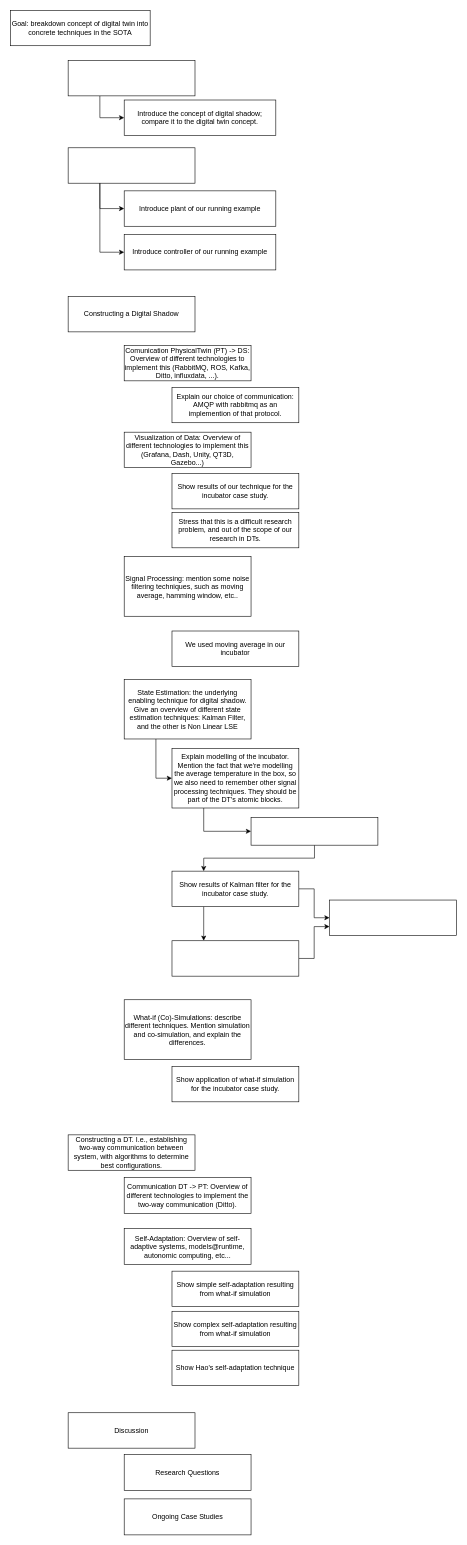
Some shapes in this 467 by 1545 pixel diagram are drawn without their labels. Here are the shapes that lost their labels. From the top down, the box of each, then its label:
(68, 60, 195, 96): Overview Definitions of Digital Twin
(68, 147, 195, 183): Define terms in Physical Twin
(250, 817, 378, 845): Explain how the model was calibrated for the incubator
(329, 899, 456, 935): Perform validation experiment by using the third temp sensor in the heatbed.
(171, 940, 299, 976): Show results of Tracking Simulator for the incubator case study.
